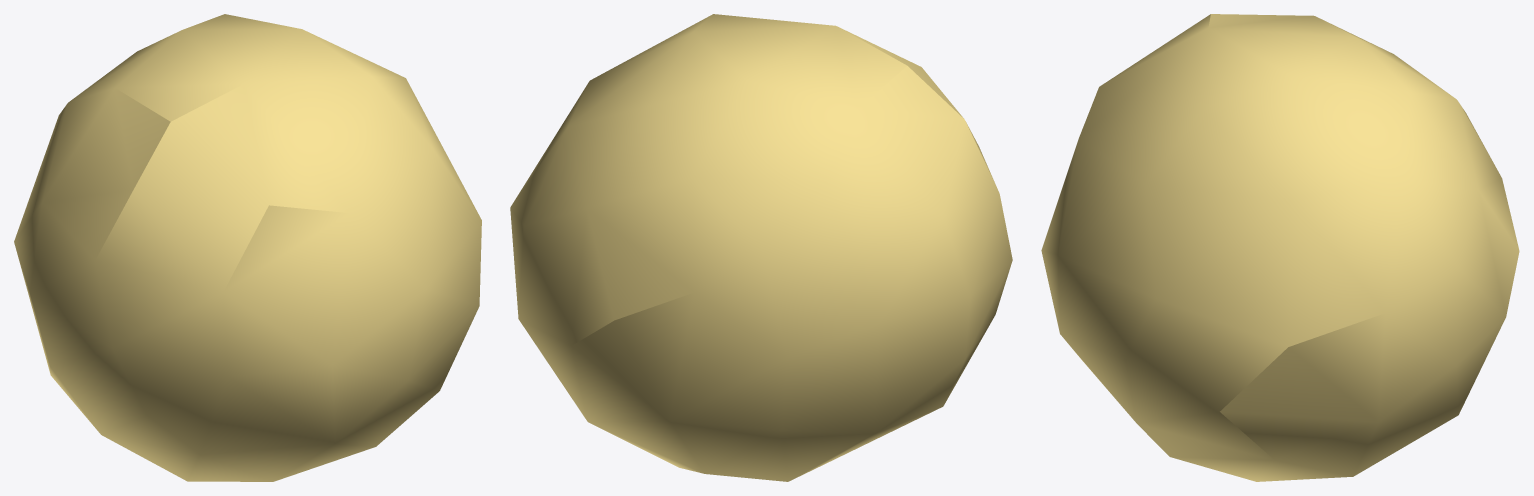
File: fma73802_mm2663.glb
The picture shows the model from 3 angles, left to right: view 1: azimuth 30°, elevation 25°; view 2: azimuth 150°, elevation 25°; view 3: azimuth 270°, elevation 25°; orthographic projection.
Parts seen in each view (by area): view 1: FMA73802_MM2663; view 2: FMA73802_MM2663; view 3: FMA73802_MM2663.
Boxes of the visible parts, x1,y1,x2,y2 form: FMA73802_MM2663: (14, 14, 481, 481); FMA73802_MM2663: (510, 14, 1012, 481); FMA73802_MM2663: (1041, 14, 1519, 481).
Size of the model in its own units: 0.00127 by 0.00114 by 0.00124.
